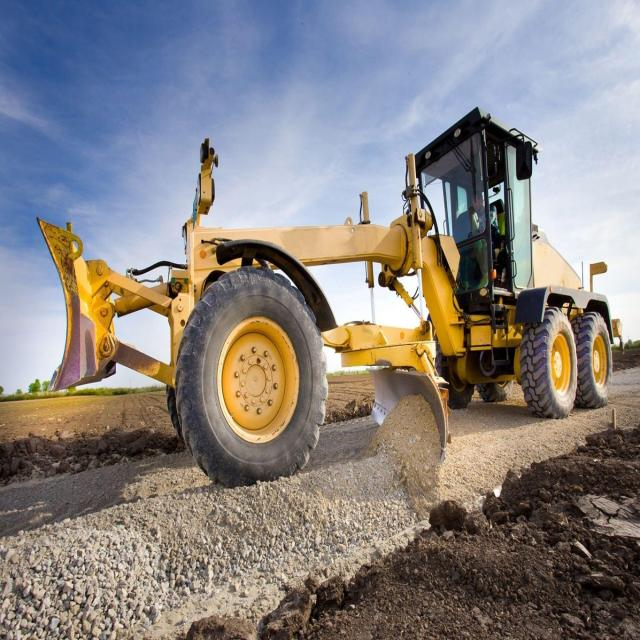buldozerpayloadergrader: (41, 84, 630, 503)
